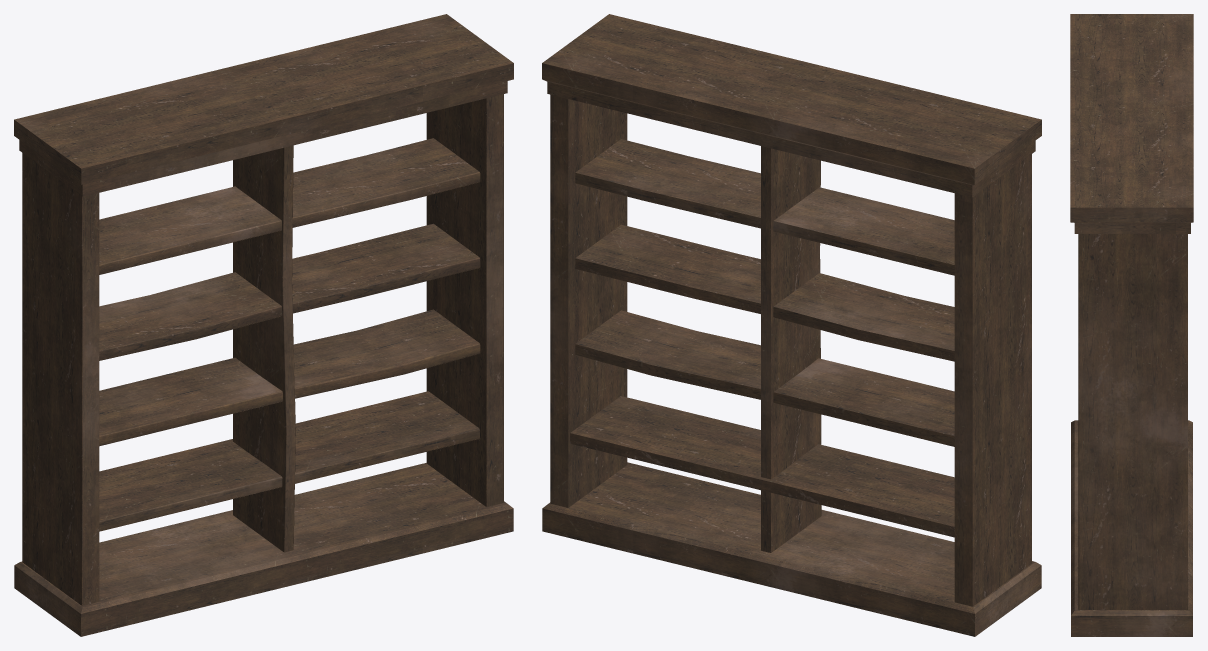
Rendered from SM_Cupboard_01.fbx.
The picture shows the model from 3 angles, left to right: view 1: azimuth 30°, elevation 25°; view 2: azimuth 150°, elevation 25°; view 3: azimuth 270°, elevation 25°; orthographic projection. The views are drawn at different scales.
Parts seen in each view (by area): view 1: SM_Cupboard_01_LOD0; view 2: SM_Cupboard_01_LOD0; view 3: SM_Cupboard_01_LOD0.
Part boxes in pixels (<box>): SM_Cupboard_01_LOD0: <box>14,14,513,636</box>; SM_Cupboard_01_LOD0: <box>542,14,1041,636</box>; SM_Cupboard_01_LOD0: <box>1070,14,1193,636</box>.
Size of what is drawn, in the model's own units: 208 by 216 by 55.96.
